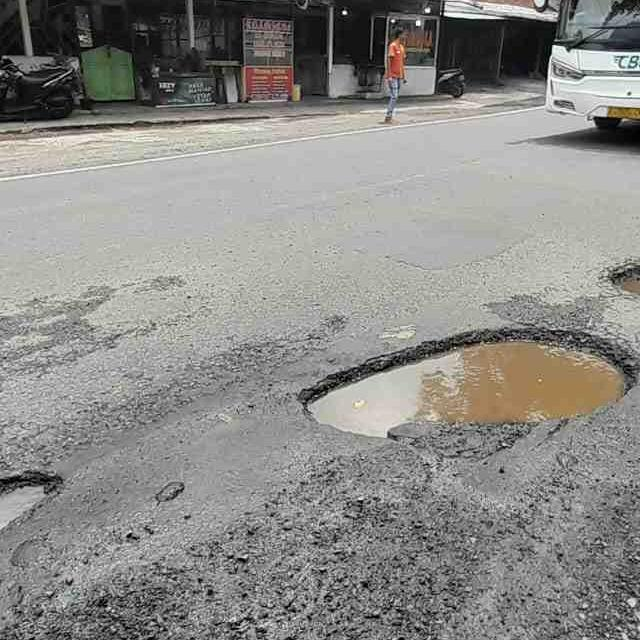lubang_kecil: (290, 304, 640, 496), (601, 240, 640, 325)
